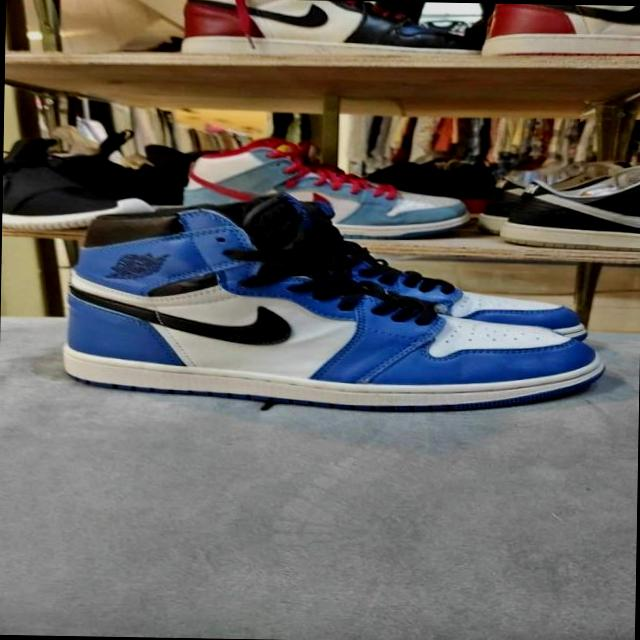nike_fake_jordan: (48, 192, 633, 416), (185, 132, 468, 242)
